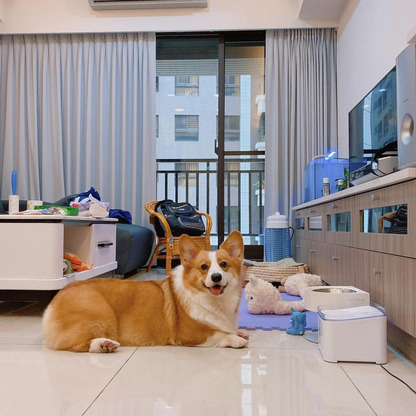Corgi: (36, 201, 252, 363)
